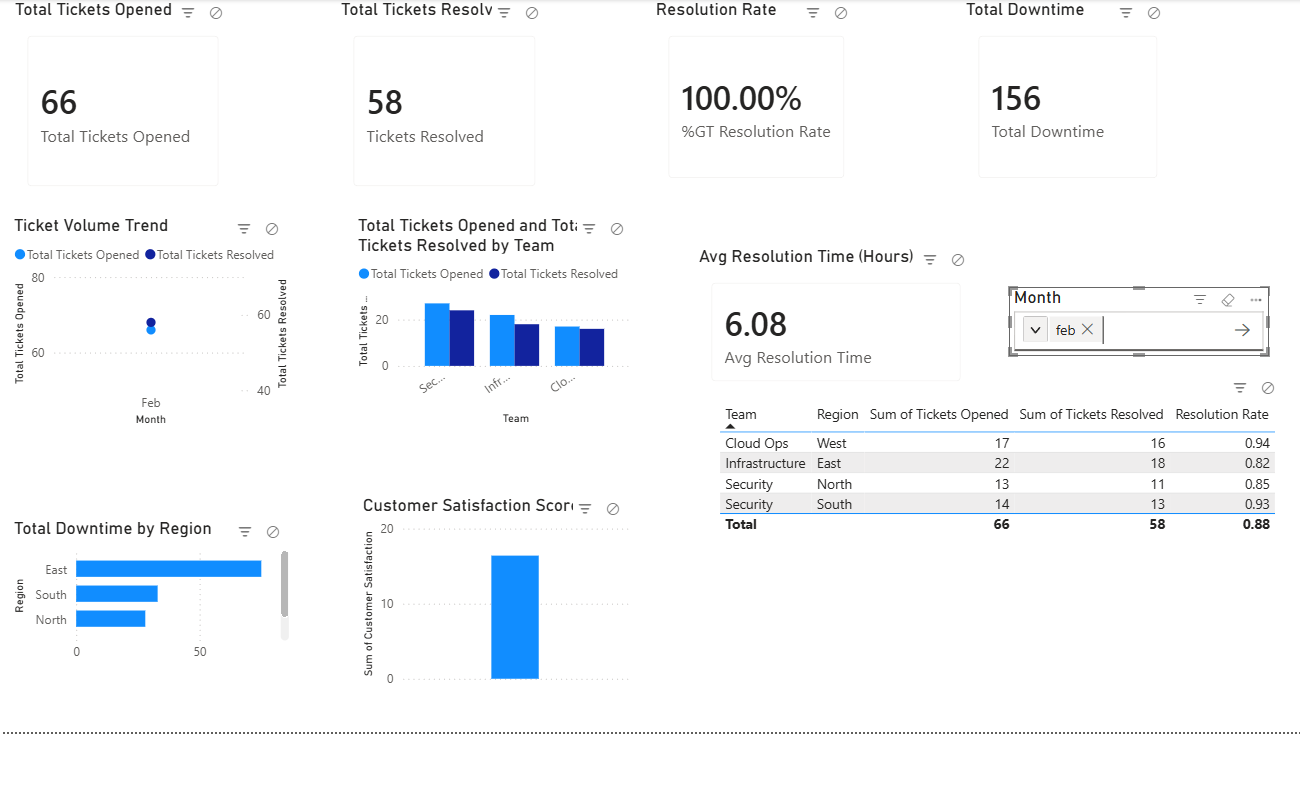

Layout of this report page (visuals, bound fields, positions):
{"tool":"powerbi","page":{"name":"Page 1","canvas":[1280,720],"ordinal":0},"visuals":[{"type":"cardVisual","title":"Total Tickets Opened","fields":{"Data":["Incidents.Total Tickets Opened"]},"box":[9.8,0,223,201.4],"z":0},{"type":"cardVisual","title":"Total Tickets Resolved","fields":{"Data":["Sum(Incidents.Tickets Resolved)"]},"box":[329.7,0,213.2,201.4],"z":1000},{"type":"cardVisual","title":"Resolution Rate","fields":{"Data":["Incidents.Resolution Rate"]},"box":[639.8,0,207.3,193.5],"z":2000},{"type":"cardVisual","title":"Total Downtime","fields":{"Data":["Incidents.Total Downtime"]},"box":[944,0,210.2,193.5],"z":3000},{"type":"lineChart","title":"Ticket Volume Trend","fields":{"Y":["Incidents.Total Tickets Opened"],"Category":["Incidents.Month"],"Y2":["Incidents.Total Tickets Resolved"]},"box":[8.8,212.2,279,211.2],"z":4000},{"type":"clusteredColumnChart","fields":{"Category":["Incidents.Team"],"Y":["Incidents.Total Tickets Opened","Incidents.Total Tickets Resolved"]},"box":[346.8,212.2,280,210.2],"z":5000},{"type":"barChart","fields":{"Category":["Incidents.Region"],"Y":["Incidents.Total Downtime"]},"box":[8.8,509.8,280,149.3],"z":6000},{"type":"textSlicer","fields":{"Values":["Incidents.Month"]},"box":[991.2,282.9,255.4,67.8],"z":7000},{"type":"cardVisual","title":"Avg Resolution Time (Hours)","fields":{"Data":["Incidents.Avg Resolution Time"]},"box":[681.7,242.6,280,150.3],"z":7001},{"type":"clusteredColumnChart","title":"Customer Satisfaction Score","fields":{"Y":["Sum(Incidents.Customer Satisfaction)"]},"box":[351.7,487.2,271.1,194.5],"z":7002},{"type":"tableEx","fields":{"Values":["Incidents.Team","Incidents.Region","Sum(Incidents.Tickets Opened)","Sum(Incidents.Tickets Resolved)","Incidents.Resolution Rate"]},"box":[701.4,392.9,564.9,319.3],"z":7003}]}

Visuals, with their boxes on the page's 1280x720 design canvas (x1, y1, x2, y2). These are canvas units, not pixel positions in the 1300x791 screenshot, which may show the page scaled, cropped or inside an application window:
"Total Tickets Opened" cardVisual: x1=10 y1=0 x2=233 y2=201
"Total Tickets Resolved" cardVisual: x1=330 y1=0 x2=543 y2=201
"Resolution Rate" cardVisual: x1=640 y1=0 x2=847 y2=194
"Total Downtime" cardVisual: x1=944 y1=0 x2=1154 y2=194
"Ticket Volume Trend" lineChart: x1=9 y1=212 x2=288 y2=423
clusteredColumnChart - Incidents.Team x Incidents.Total Tickets Opened: x1=347 y1=212 x2=627 y2=422
barChart - Incidents.Region x Incidents.Total Downtime: x1=9 y1=510 x2=289 y2=659
textSlicer - Incidents.Month: x1=991 y1=283 x2=1247 y2=351
"Avg Resolution Time (Hours)" cardVisual: x1=682 y1=243 x2=962 y2=393
"Customer Satisfaction Score" clusteredColumnChart: x1=352 y1=487 x2=623 y2=682
tableEx - Incidents.Team x Incidents.Region: x1=701 y1=393 x2=1266 y2=712
